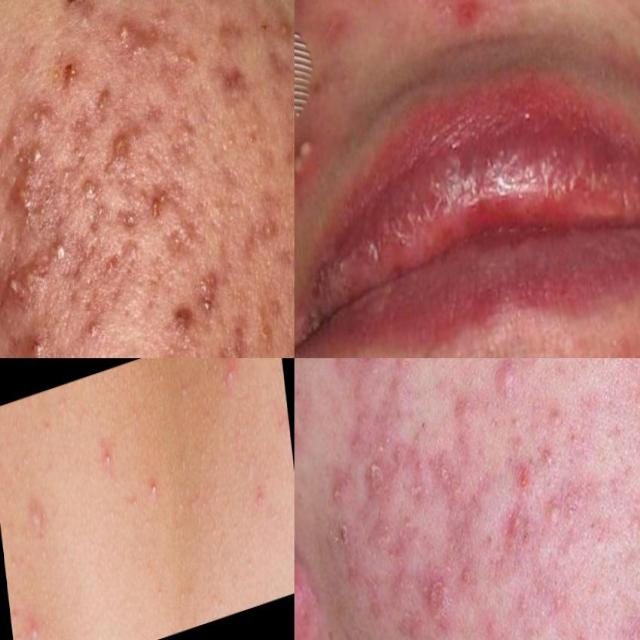acne_scars: (210, 49, 257, 122), (237, 207, 286, 249), (214, 323, 262, 358)
comedone: (241, 459, 276, 528), (81, 306, 115, 358), (21, 474, 51, 530), (139, 460, 170, 510), (26, 594, 49, 640), (220, 358, 244, 392), (98, 437, 119, 473)
papule: (442, 363, 489, 438), (431, 0, 497, 46), (484, 358, 534, 411), (106, 114, 135, 180), (11, 320, 52, 358)
pustule: (294, 116, 326, 188), (486, 358, 530, 409), (29, 88, 67, 145), (63, 167, 103, 216), (113, 6, 146, 51)
sebo-crystan-conglo: (414, 556, 469, 634), (0, 250, 66, 314), (180, 262, 232, 331), (5, 138, 46, 216), (324, 460, 363, 522), (500, 485, 538, 540)
